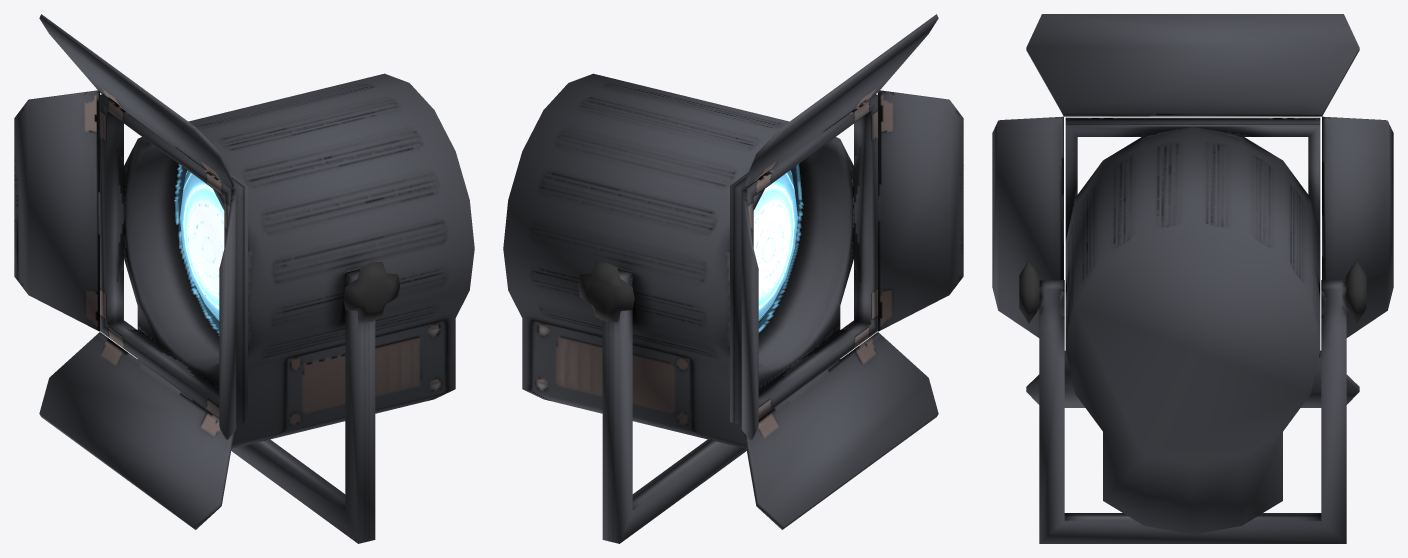
The model's file is spotlight.glb.
3 views of the same model, side by side, from view 1: azimuth 30°, elevation 25°; view 2: azimuth 150°, elevation 25°; view 3: azimuth 270°, elevation 25° (orthographic). The views are drawn at different scales.
Visible parts, largest first — view 1: projo-lowpoly; view 2: projo-lowpoly; view 3: projo-lowpoly.
Boxes of the visible parts, box(x1,y1,x2,y2) form: projo-lowpoly: box(14, 14, 474, 543); projo-lowpoly: box(503, 14, 963, 543); projo-lowpoly: box(992, 14, 1393, 543).
Bounding box in the file's own units: 2.6 × 3.85 × 3.15.
1 material, 1 textured.
